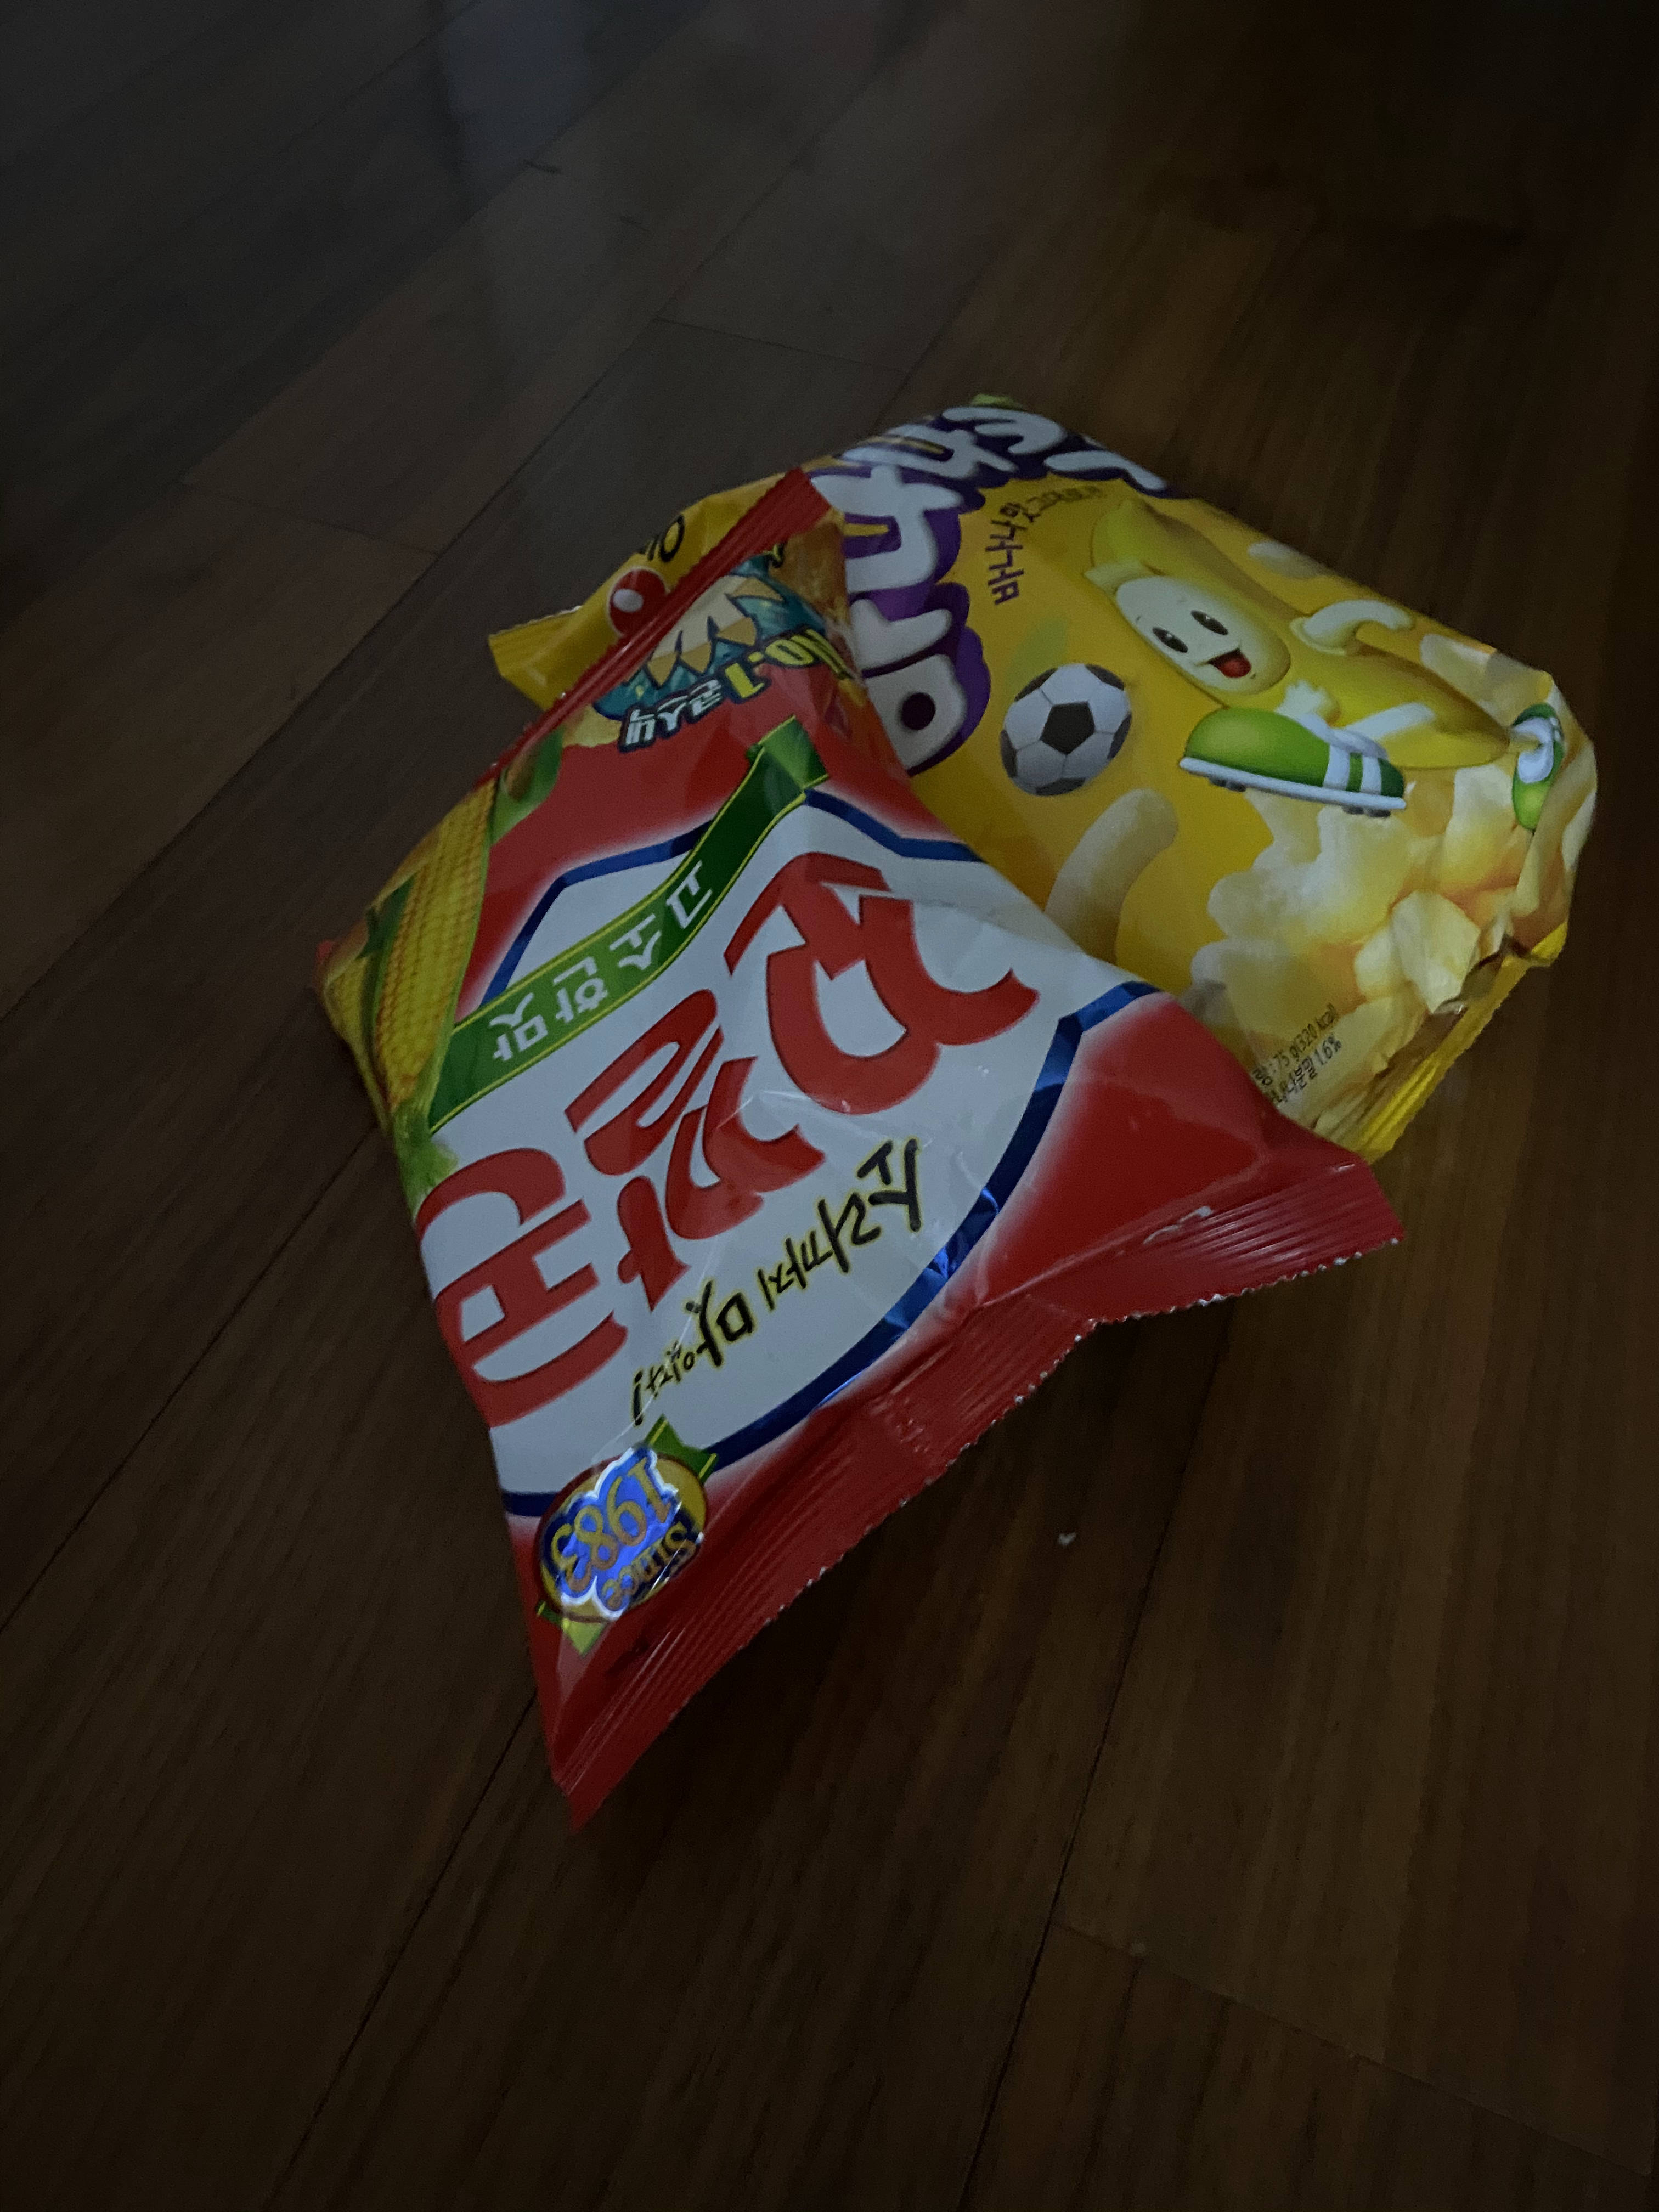banana: (474, 366, 1624, 1230)
ggoggalcon: (288, 456, 1419, 1848)
